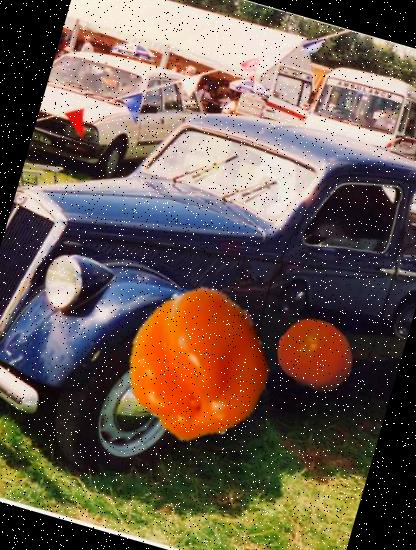Clementine: (266, 306, 364, 404)
Pepper: (104, 274, 287, 457)
